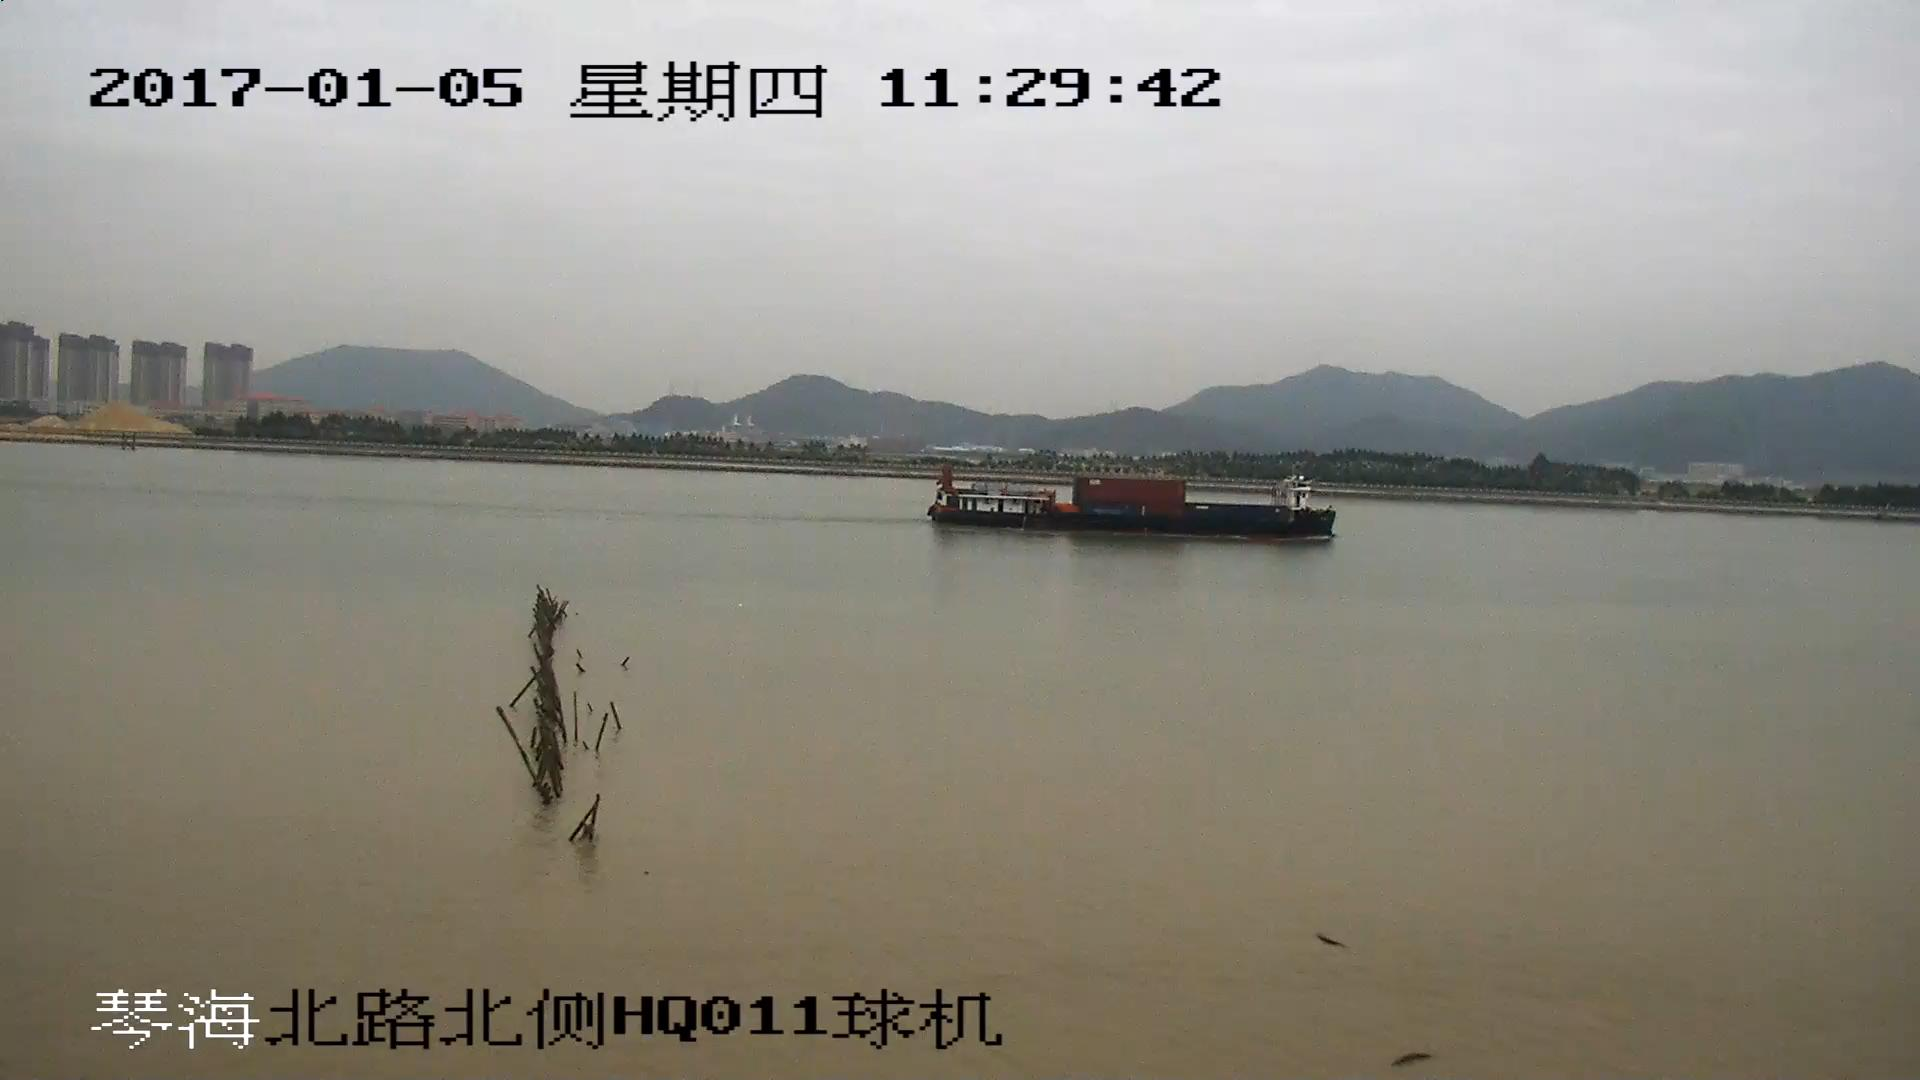container ship: (928, 463, 1338, 540)
